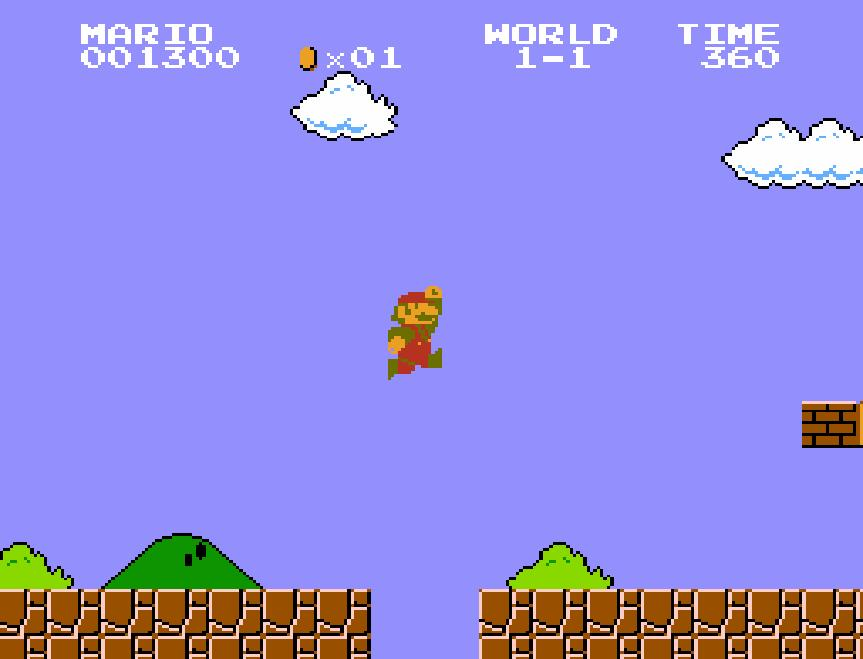big_mario: (386, 284, 444, 382)
